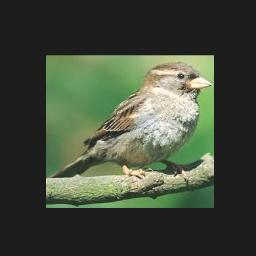Sparrow: (49, 62, 213, 182)
